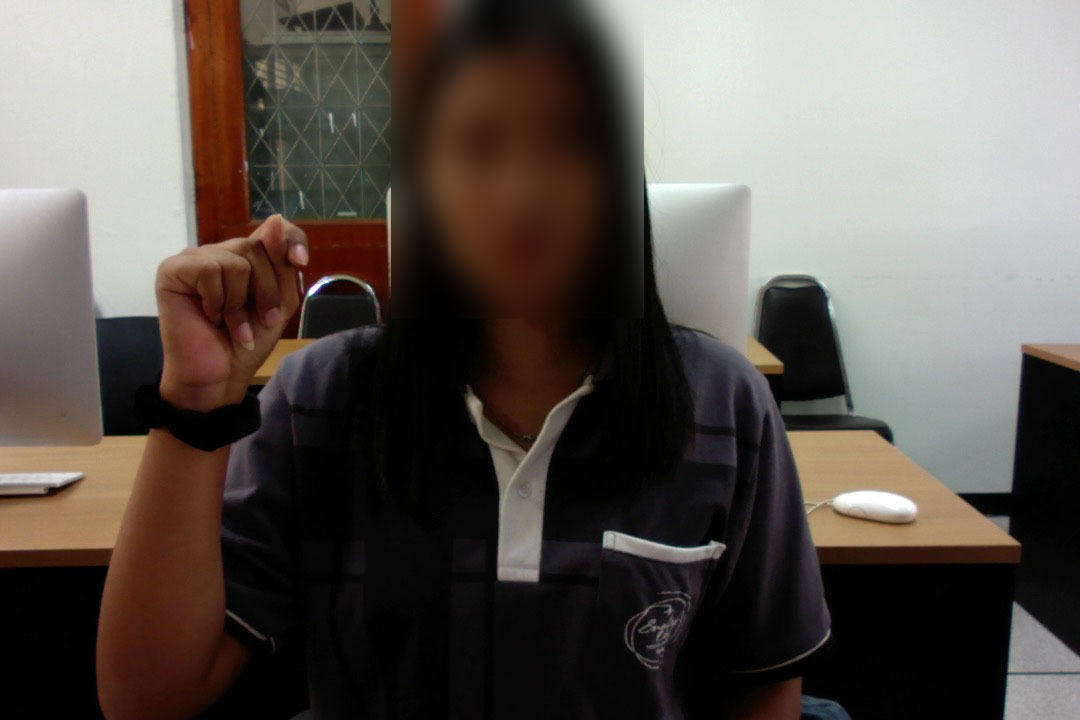tor: (147, 209, 312, 411)
